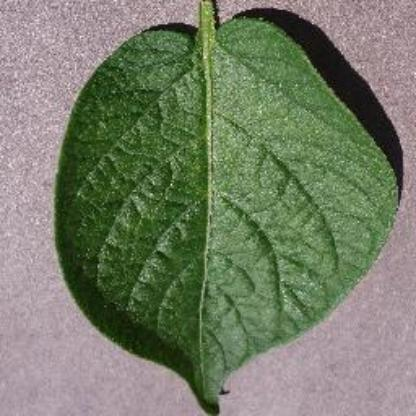Healthy-plant: (52, 1, 402, 414)
